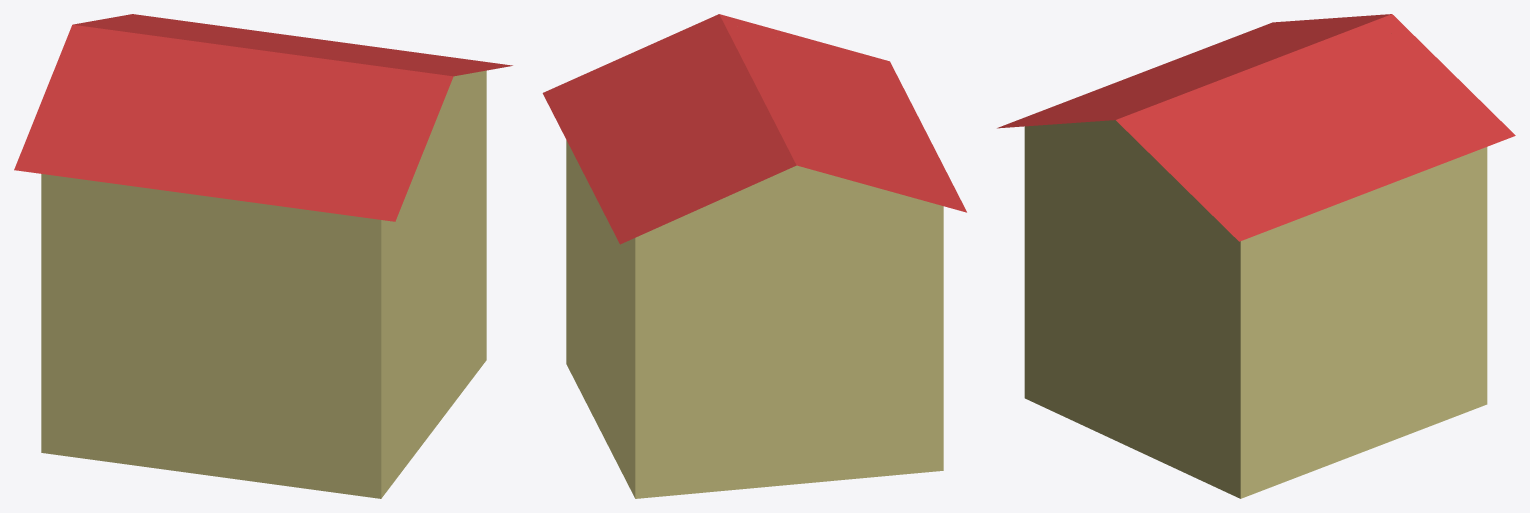
3 views of the same model, side by side, from view 1: azimuth 30°, elevation 25°; view 2: azimuth 150°, elevation 25°; view 3: azimuth 270°, elevation 25° (orthographic). The views are drawn at different scales.
Visible parts, largest first — view 1: group_5, group_3, group_4; view 2: group_5, group_3, group_4; view 3: group_5, group_3, group_4.
Part boxes in pixels (x1,y1,x2,y2): group_5: [41, 70, 486, 498]; group_3: [14, 14, 512, 221]; group_4: [74, 20, 453, 221]; group_5: [566, 140, 943, 498]; group_3: [542, 14, 966, 244]; group_4: [668, 14, 889, 212]; group_5: [1024, 120, 1487, 498]; group_3: [999, 14, 1515, 241]; group_4: [997, 14, 1465, 128].
Bounding box in the file's own units: 19.11 × 19.14 × 13.54.
